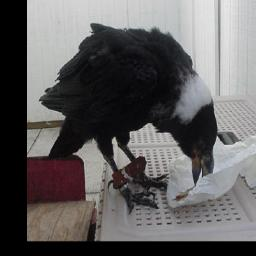Crow: (38, 22, 221, 215)
